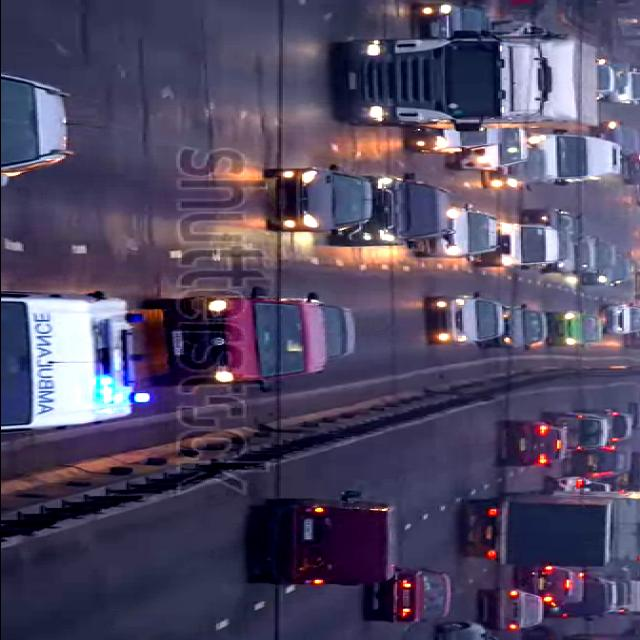ambulance: (0, 284, 148, 438)
